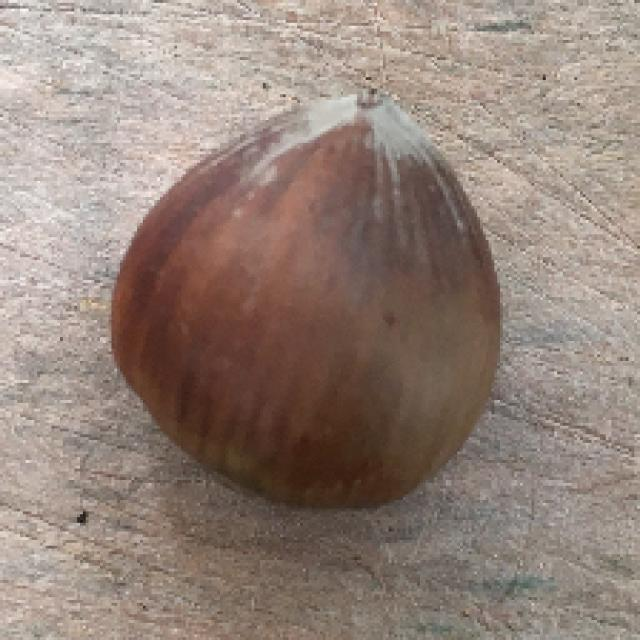qualityHazelnut: (112, 89, 502, 514)
